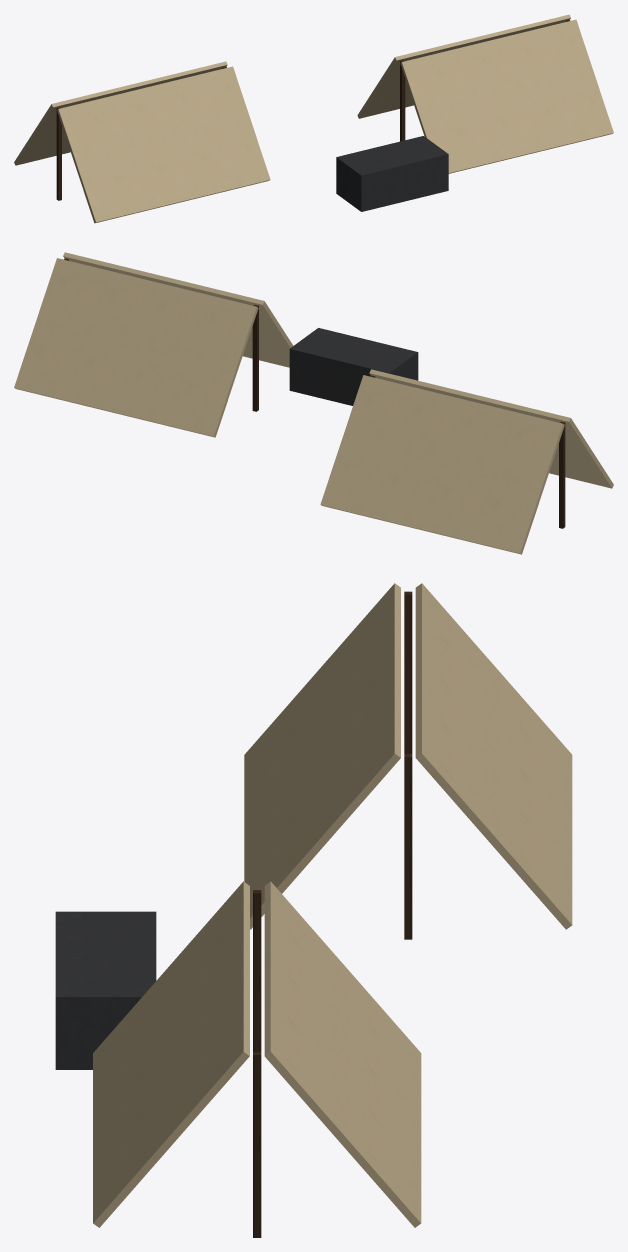
Rendered from rail_works_tents_01.glb.
The picture shows the model from 3 angles, top to bottom: view 1: azimuth 30°, elevation 25°; view 2: azimuth 150°, elevation 25°; view 3: azimuth 270°, elevation 25°; orthographic projection. The views are drawn at different scales.
Visible parts, largest first — view 1: rail_works_tents_01; view 2: rail_works_tents_01; view 3: rail_works_tents_01.
Part boxes in pixels (left/top/right/bottom): rail_works_tents_01: left=14, top=14, right=613, bottom=223; rail_works_tents_01: left=14, top=252, right=613, bottom=554; rail_works_tents_01: left=55, top=583, right=572, bottom=1237.
Size of the model in its own units: 11 by 2.06 by 5.13.
3 materials, 3 textured.
